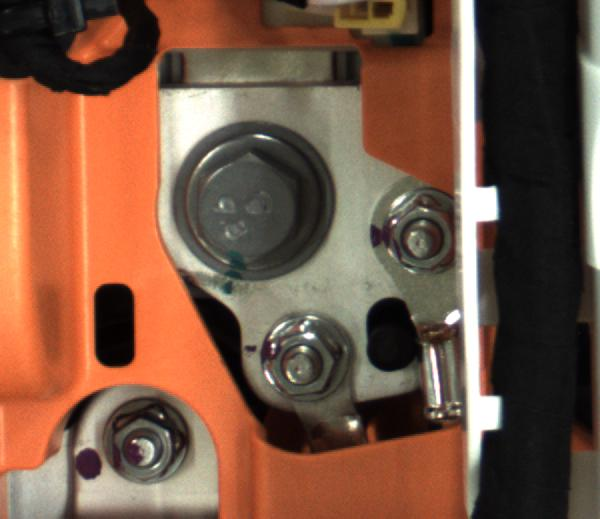nut_b: (174, 131, 333, 280)
screw_s: (101, 392, 188, 487), (264, 314, 350, 402), (384, 194, 463, 274)
